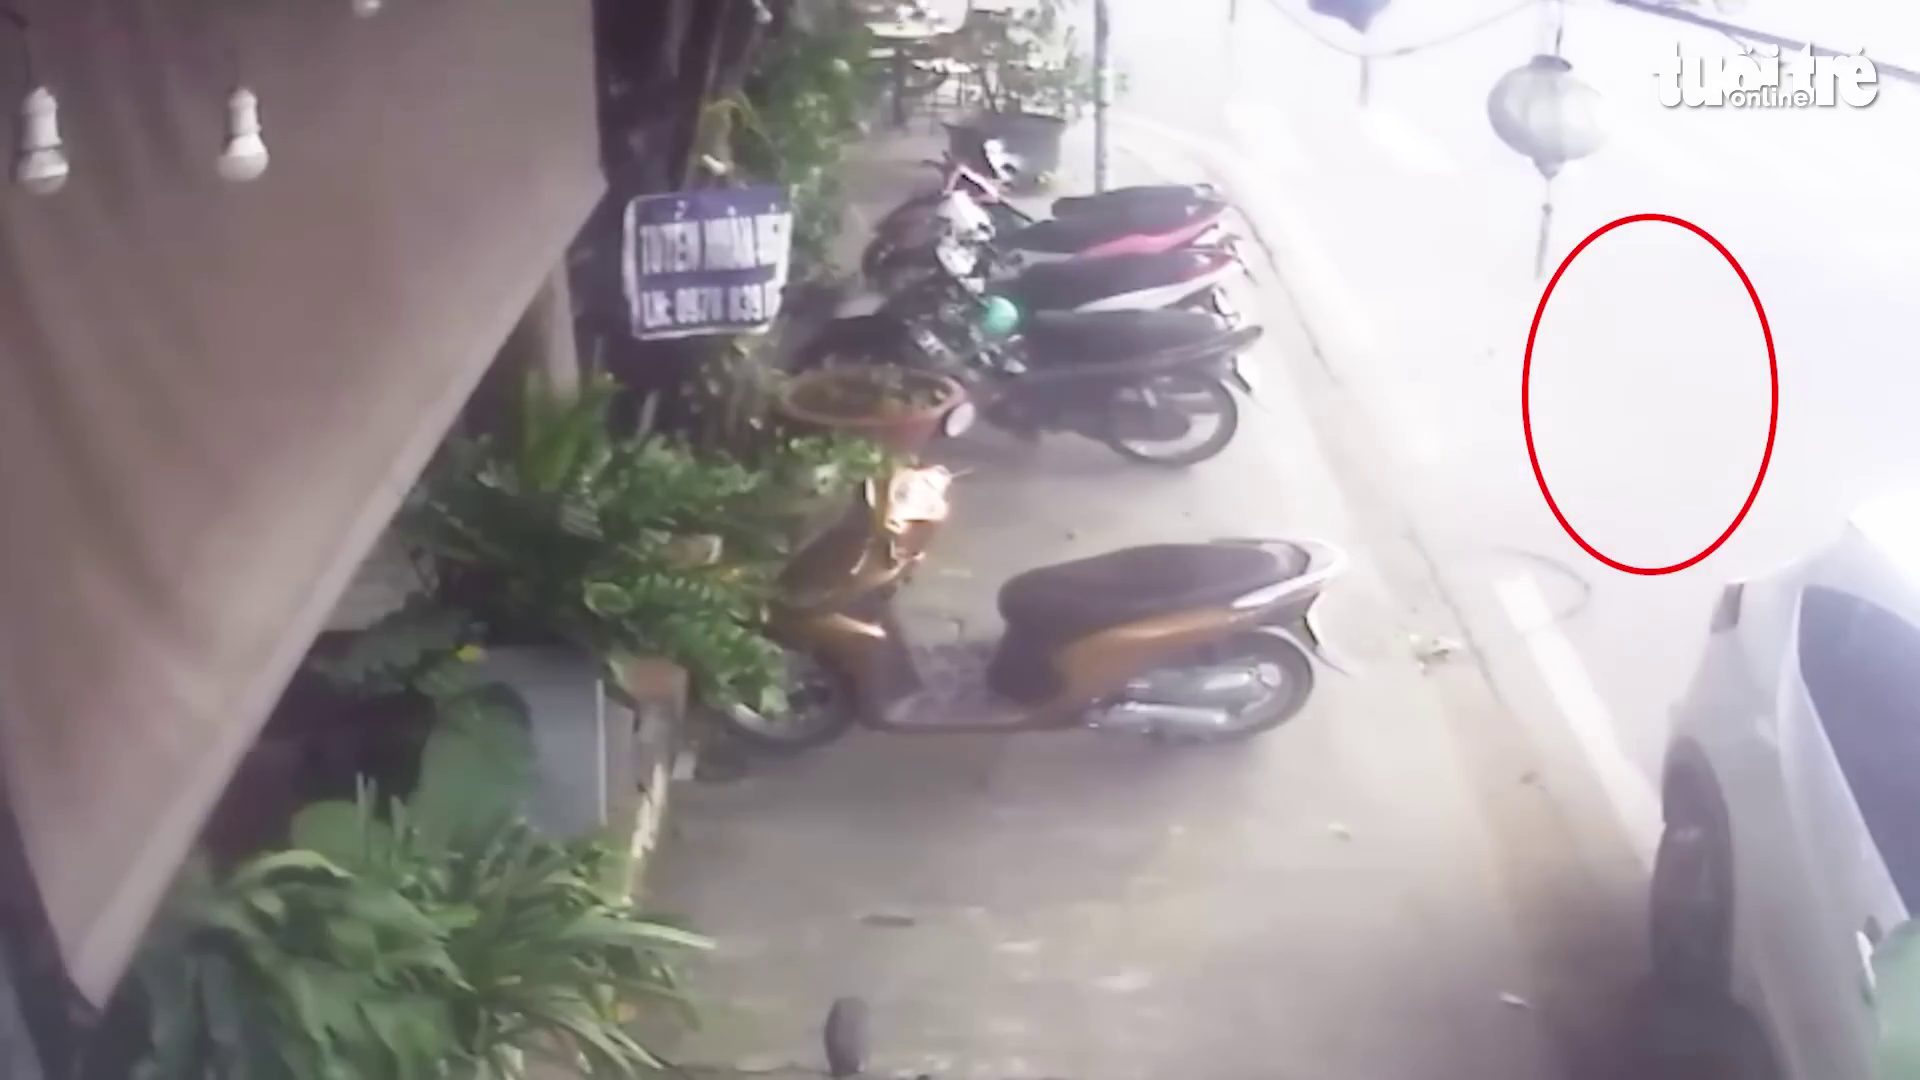Motorcycle: (679, 462, 1349, 761), (771, 198, 1263, 465), (808, 277, 1262, 467), (914, 119, 1254, 286), (870, 187, 1251, 331), (920, 140, 1237, 257)
